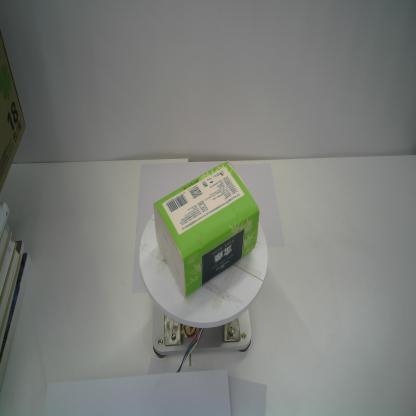Tissue: (153, 157, 261, 300)
